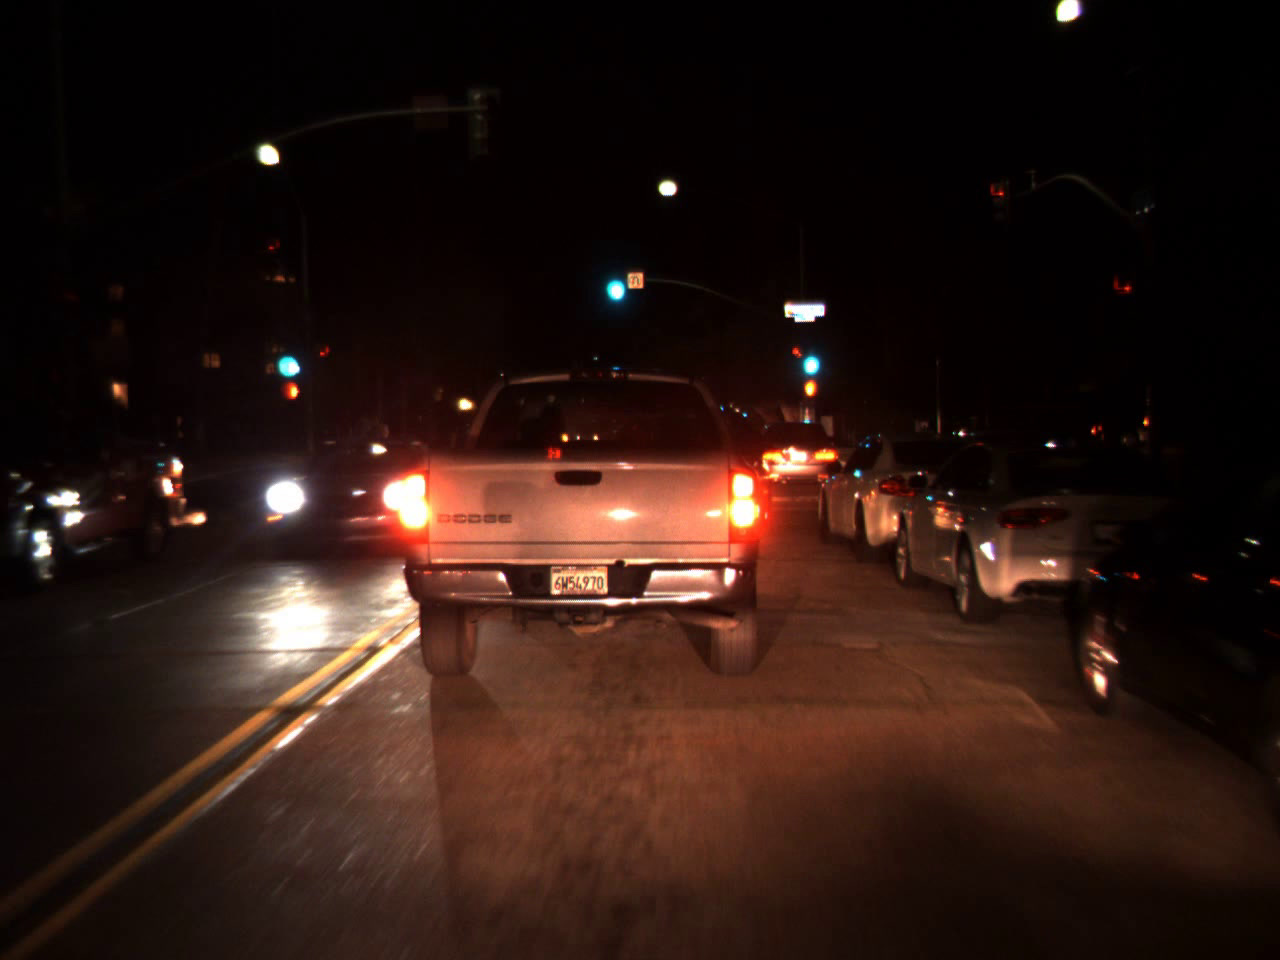go: (599, 253, 629, 310), (271, 329, 299, 386), (796, 334, 823, 382)
